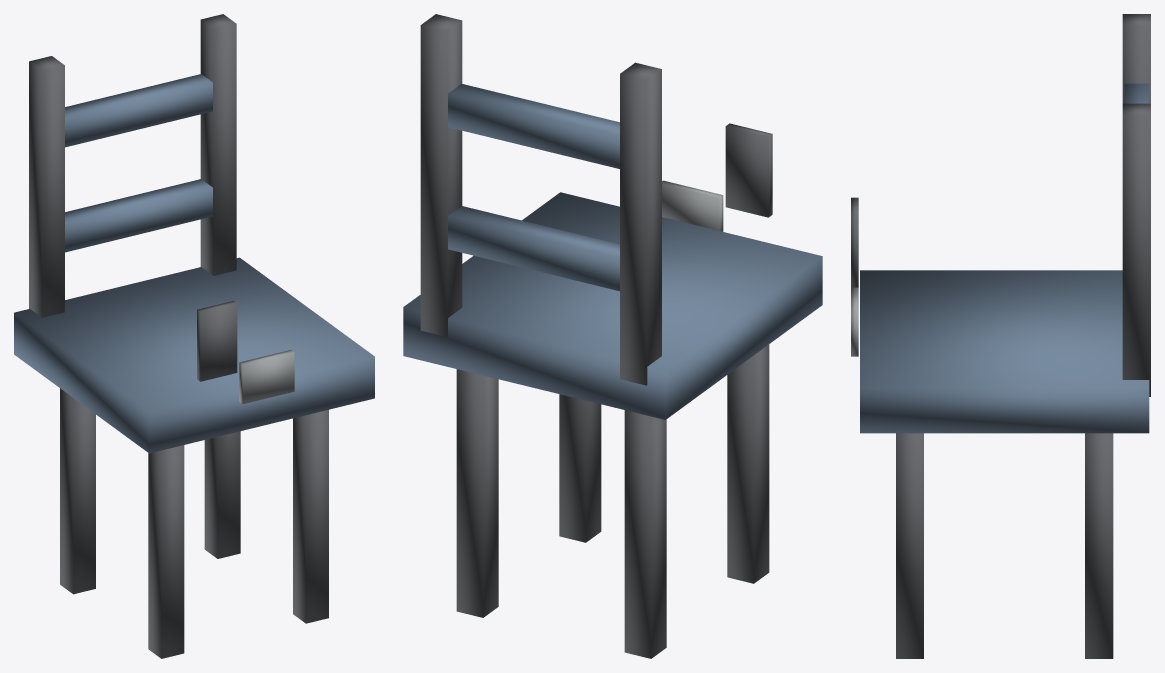
File: waiting_chair__weathered.glb
3 renders of one model, left to right at view 1: azimuth 30°, elevation 25°; view 2: azimuth 150°, elevation 25°; view 3: azimuth 270°, elevation 25°, orthographic. The views are drawn at different scales.
Visible parts, largest first — view 1: world; view 2: world; view 3: world.
Boxes of the visible parts, bbox=[...] form: world: bbox=[14, 14, 374, 658]; world: bbox=[403, 14, 822, 658]; world: bbox=[851, 14, 1150, 658].
Size of the model in its own units: 0.445 by 0.9684 by 0.4781.
